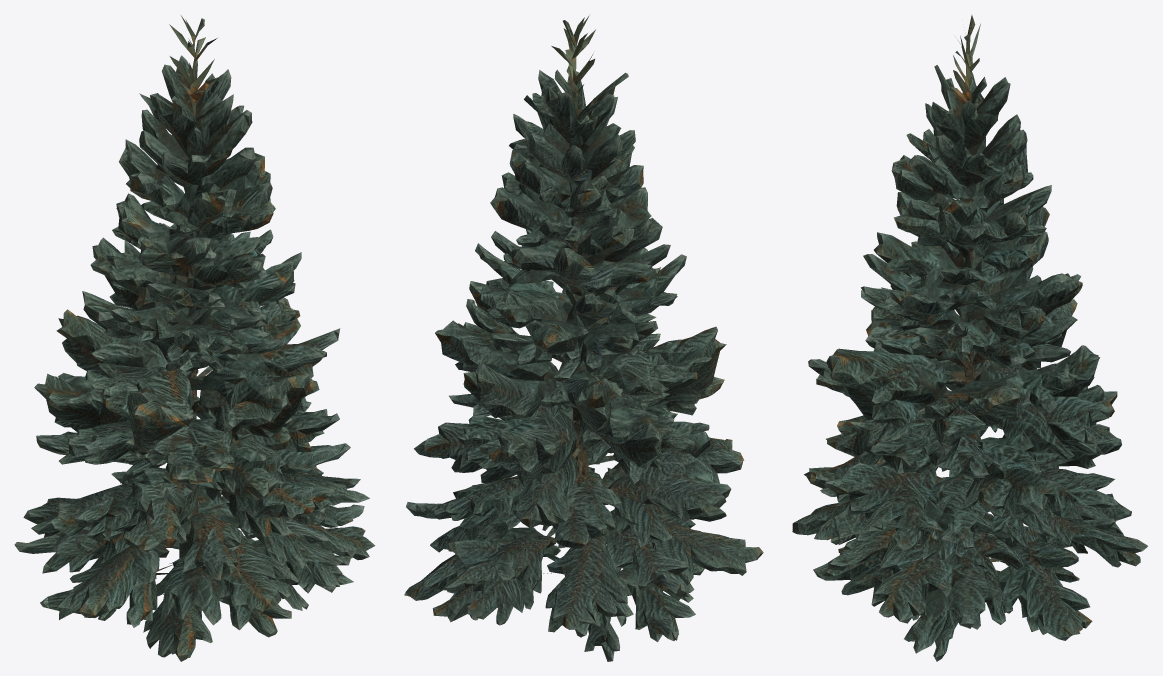
3 renders of one model, left to right at view 1: azimuth 30°, elevation 25°; view 2: azimuth 150°, elevation 25°; view 3: azimuth 270°, elevation 25°, orthographic. The views are drawn at different scales.
Size of the model in its own units: 0.9725 by 1.79 by 0.9563.
Materials: 1 (1 with a texture image).
